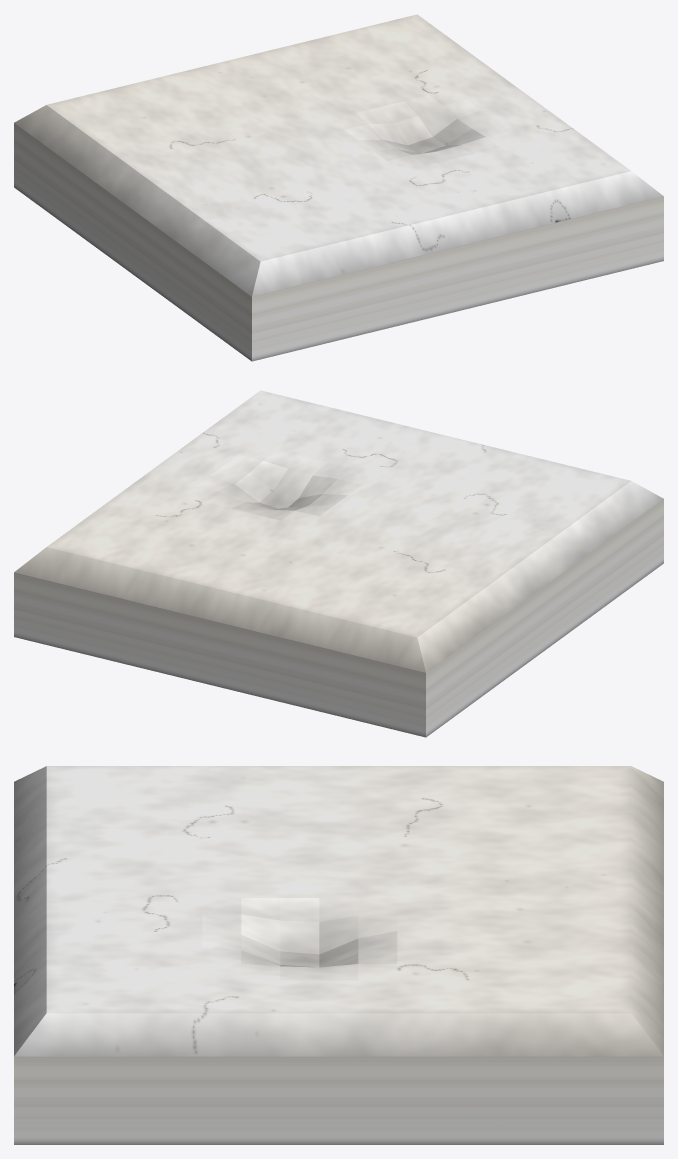
File: tile_mud_d1.glb
3 renders of one model, top to bottom at view 1: azimuth 30°, elevation 25°; view 2: azimuth 150°, elevation 25°; view 3: azimuth 270°, elevation 25°, orthographic. The views are drawn at different scales.
Parts seen in each view (by area): view 1: tile_mud_d1; view 2: tile_mud_d1; view 3: tile_mud_d1.
Part boxes in pixels (x1,y1,x2,y2): tile_mud_d1: [14, 14, 663, 361]; tile_mud_d1: [14, 390, 663, 737]; tile_mud_d1: [14, 766, 663, 1144].
Size of the model in its own units: 1 by 0.2 by 1.
1 material, 1 textured.
